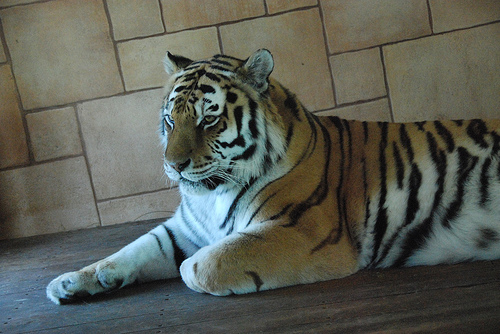Tigre: (131, 38, 485, 283)
